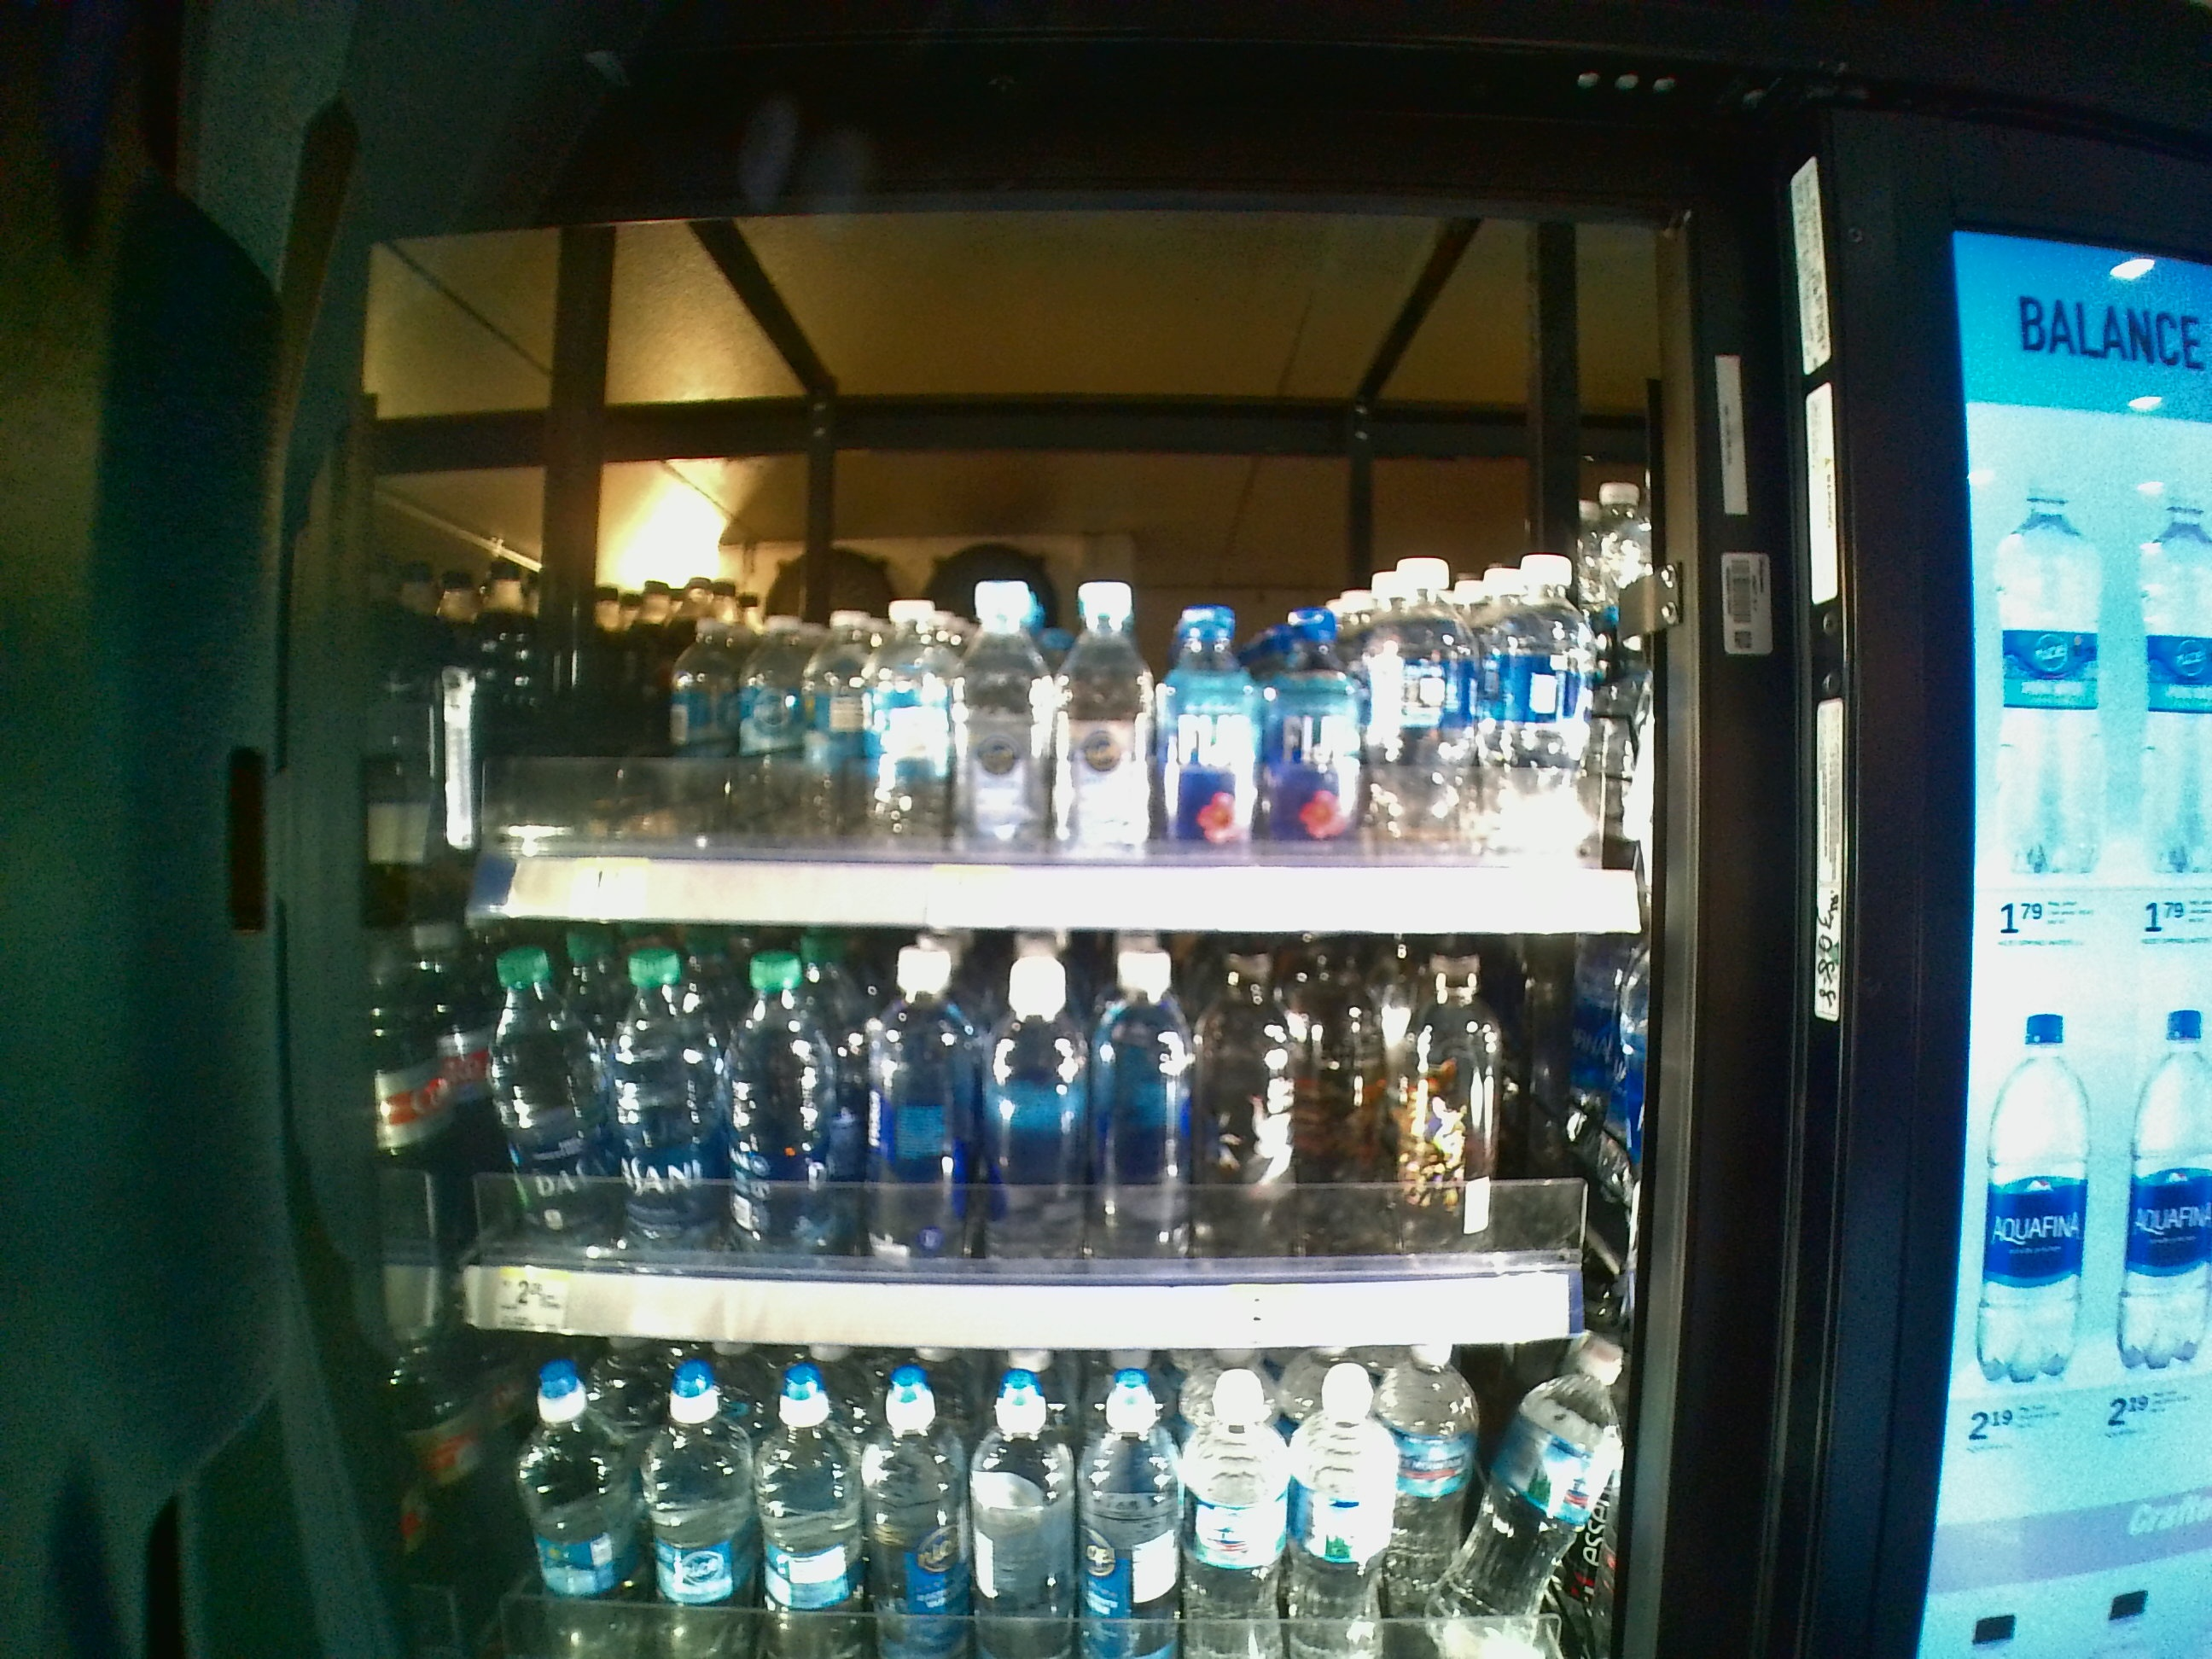shelf: (439, 221, 1658, 932), (435, 929, 1667, 1356)
